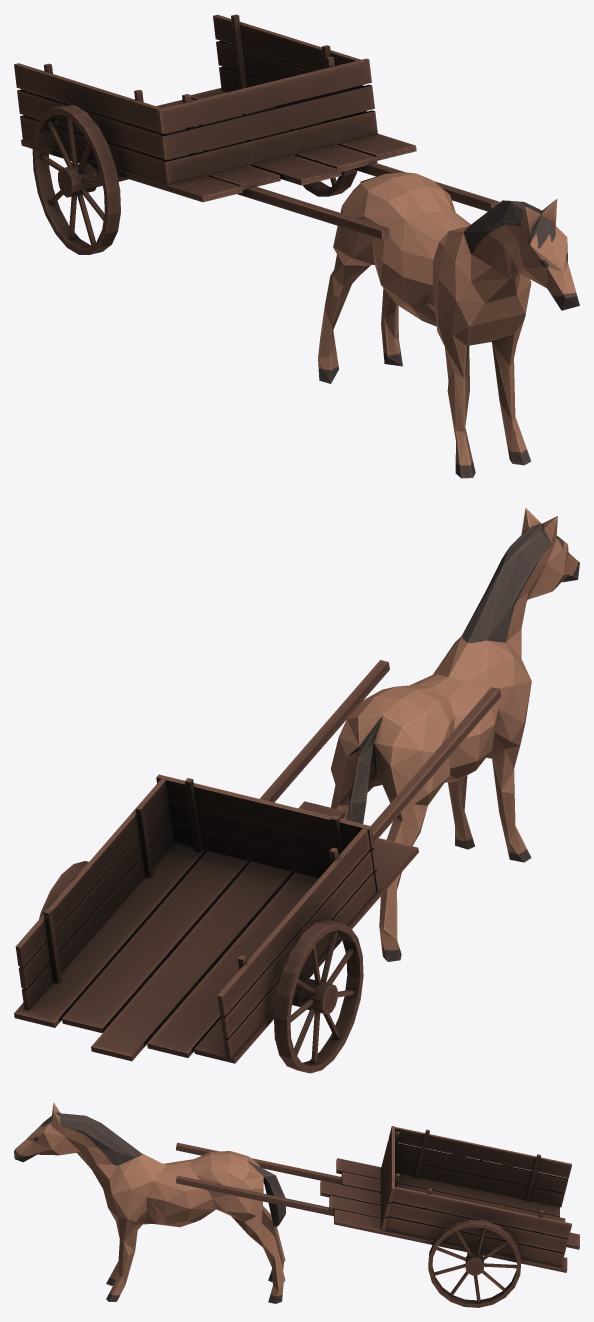
Rendered from Telega_2.FBX.
3 renders of one model, top to bottom at view 1: azimuth 30°, elevation 25°; view 2: azimuth 150°, elevation 25°; view 3: azimuth 270°, elevation 25°, orthographic. The views are drawn at different scales.
Parts seen in each view (by area): view 1: Cylinder019, ddadas; view 2: Cylinder019, ddadas; view 3: Cylinder019, ddadas.
Boxes of the visible parts, x1,y1,x2,y2 form: Cylinder019: [14, 14, 499, 254]; ddadas: [318, 172, 579, 478]; Cylinder019: [14, 660, 501, 1073]; ddadas: [331, 508, 579, 961]; Cylinder019: [176, 1126, 579, 1307]; ddadas: [14, 1102, 285, 1303].
Bounding box in the file's own units: 60.08 × 65.92 × 183.
